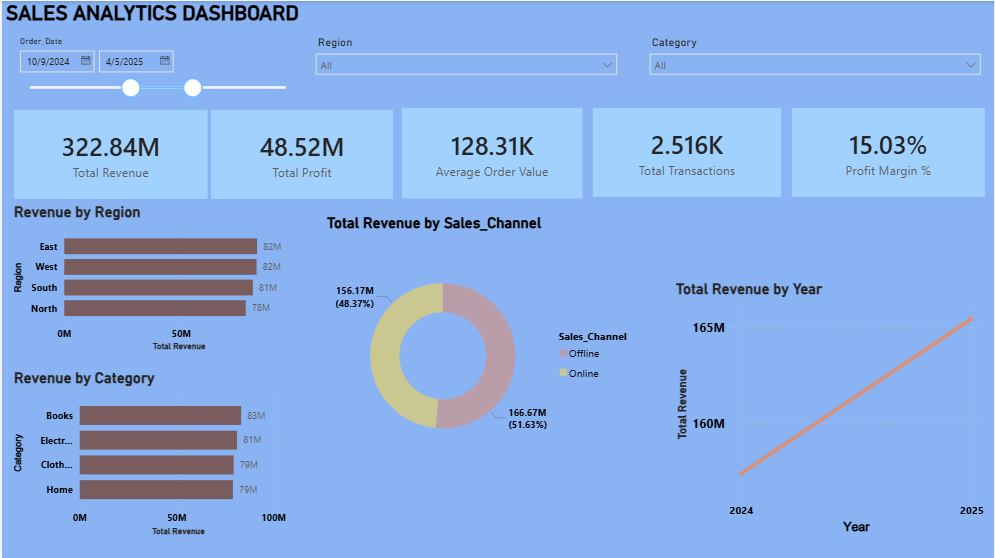

This screenshot's page, from the dashboard's own definition file:
{"tool":"powerbi","page":{"name":"SALES ANALYTICS DASHBOARD","canvas":[1280,720],"ordinal":0},"visuals":[{"type":"cardVisual","fields":{"Data":["final_cleaned_dataset.Average Order Value"]},"box":[510.6,133.3,243.9,127.3],"z":0},{"type":"cardVisual","fields":{"Data":["final_cleaned_dataset.Profit Margin %"]},"box":[1013.6,133.3,259.1,125.8],"z":1000},{"type":"cardVisual","fields":{"Data":["final_cleaned_dataset.Total Profit"]},"box":[265.2,134.8,245.5,125.8],"z":2000},{"type":"cardVisual","fields":{"Data":["final_cleaned_dataset.Total Revenue"]},"box":[10.6,134.8,260.6,125.8],"z":3000},{"type":"cardVisual","fields":{"Data":["final_cleaned_dataset.Total Transactions"]},"box":[757.6,133.3,253,125.8],"z":4000},{"type":"clusteredBarChart","title":"Revenue by Category","fields":{"Y":["final_cleaned_dataset.Total Revenue"],"Category":["final_cleaned_dataset.Category"]},"box":[10.6,474.2,366.7,219.7],"z":5000},{"type":"clusteredBarChart","title":"Revenue by Region","fields":{"Category":["final_cleaned_dataset.Region"],"Y":["final_cleaned_dataset.Total Revenue"]},"box":[10.6,260.6,384.8,195.5],"z":6000},{"type":"donutChart","fields":{"Category":["final_cleaned_dataset.Sales_Channel"],"Y":["final_cleaned_dataset.Total Revenue"]},"box":[413.6,274.2,415.2,343.9],"z":7000},{"type":"slicer","fields":{"Values":["final_cleaned_dataset.Category"]},"box":[825.8,39.4,447,95.5],"z":8000},{"type":"slicer","fields":{"Values":["final_cleaned_dataset.Region"]},"box":[395.5,39.4,409.1,95.5],"z":9000},{"type":"slicer","fields":{"Values":["final_cleaned_dataset.Order_Date"]},"box":[10.6,39.4,377.3,95.5],"z":10000},{"type":"textbox","title":"SALES ANALYTICS DASHBOARD","box":[0,0,387.9,34.8],"z":11000},{"type":"lineChart","fields":{"Category":["final_cleaned_dataset.Order_Date.Variation.Date Hierarchy.Year","final_cleaned_dataset.Order_Date.Variation.Date Hierarchy.Quarter","final_cleaned_dataset.Order_Date.Variation.Date Hierarchy.Month","final_cleaned_dataset.Order_Date.Variation.Date Hierarchy.Day"],"Y":["final_cleaned_dataset.Total Revenue"]},"box":[865.2,360.6,407.6,333.3],"z":12000}]}

Visuals, with their boxes in screenshot pixels (x1, y1, x2, y2), scaled from the page's 1280x720 canvas onto the 995x558 screenshot:
cardVisual - final_cleaned_dataset.Average Order Value: <bbox>397, 103, 587, 202</bbox>
cardVisual - final_cleaned_dataset.Profit Margin %: <bbox>788, 103, 989, 201</bbox>
cardVisual - final_cleaned_dataset.Total Profit: <bbox>206, 104, 397, 202</bbox>
cardVisual - final_cleaned_dataset.Total Revenue: <bbox>8, 104, 211, 202</bbox>
cardVisual - final_cleaned_dataset.Total Transactions: <bbox>589, 103, 786, 201</bbox>
"Revenue by Category" clusteredBarChart: <bbox>8, 368, 293, 538</bbox>
"Revenue by Region" clusteredBarChart: <bbox>8, 202, 307, 353</bbox>
donutChart - final_cleaned_dataset.Sales_Channel x final_cleaned_dataset.Total Revenue: <bbox>322, 213, 644, 479</bbox>
slicer - final_cleaned_dataset.Category: <bbox>642, 31, 989, 105</bbox>
slicer - final_cleaned_dataset.Region: <bbox>307, 31, 625, 105</bbox>
slicer - final_cleaned_dataset.Order_Date: <bbox>8, 31, 302, 105</bbox>
"SALES ANALYTICS DASHBOARD" textbox: <bbox>0, 0, 302, 27</bbox>
lineChart - final_cleaned_dataset.Order_Date.Variation.Date Hierarchy.Year x final_cleaned_dataset.Order_Date.Variation.Date Hierarchy.Quarter: <bbox>673, 279, 989, 538</bbox>
